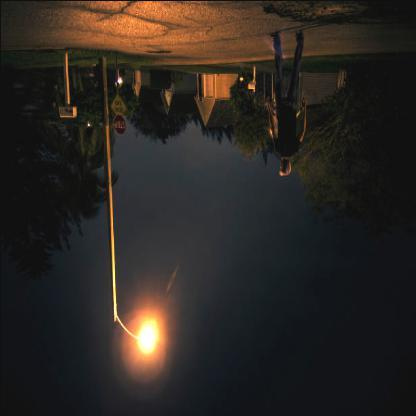on: (0, 36, 197, 398)
